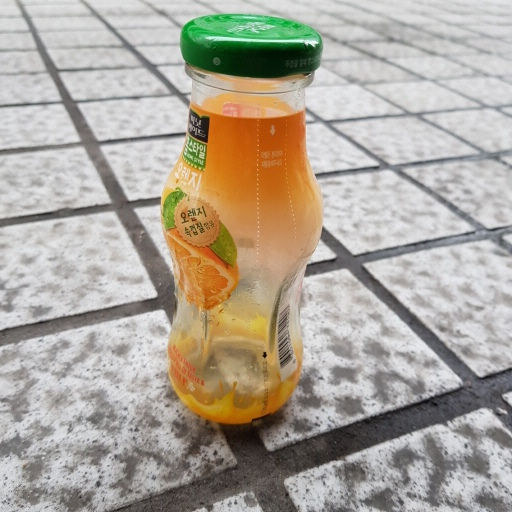Glass_4: (153, 7, 328, 428)
